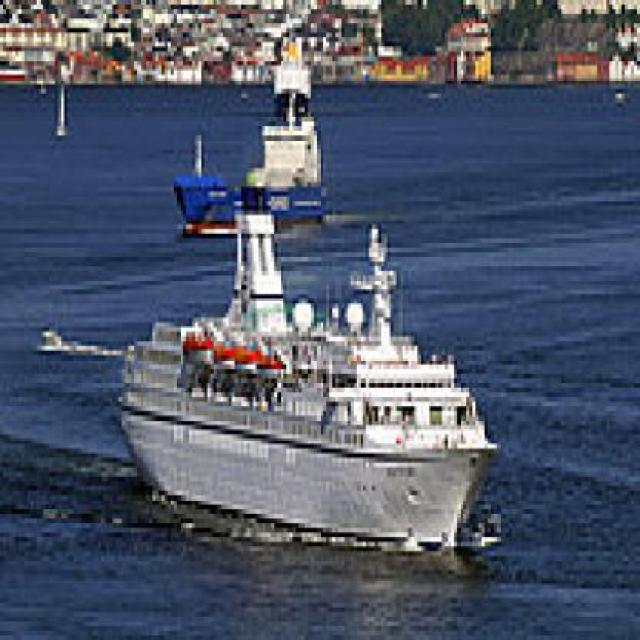cruise: (101, 193, 507, 562)
